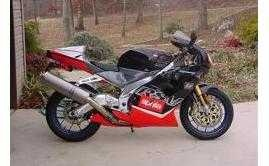motorcycle: (38, 29, 234, 142)
